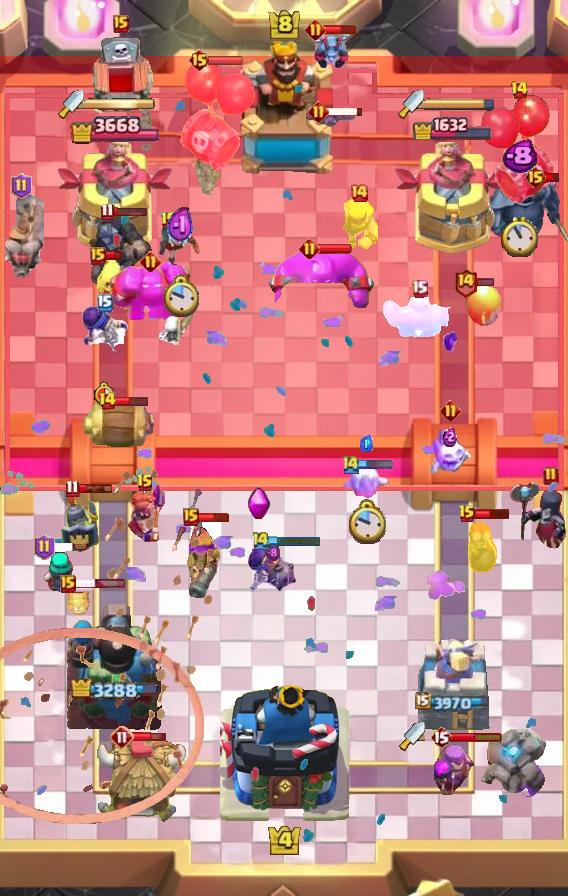bandit: (156, 220, 204, 276)
bar: (450, 731, 503, 743), (269, 535, 322, 547), (74, 578, 126, 589), (474, 507, 511, 520), (132, 730, 167, 743), (317, 243, 353, 255), (114, 395, 149, 407), (327, 106, 364, 117), (358, 459, 394, 470), (208, 55, 244, 66), (78, 483, 113, 494), (113, 206, 148, 217), (196, 512, 230, 523), (323, 24, 357, 35), (52, 542, 88, 552), (104, 250, 123, 261), (476, 277, 495, 287), (544, 172, 561, 183)
bar-level: (453, 267, 478, 298), (110, 725, 134, 749), (524, 165, 547, 189), (188, 48, 211, 72), (34, 534, 55, 560), (11, 173, 32, 199), (430, 725, 452, 749), (440, 400, 461, 421), (140, 251, 161, 272), (299, 238, 320, 259), (308, 101, 329, 122), (305, 19, 326, 40), (251, 530, 271, 551), (341, 454, 361, 475), (349, 183, 369, 203), (98, 391, 117, 411), (510, 80, 529, 100), (458, 504, 476, 524), (136, 473, 154, 493), (160, 211, 178, 231), (411, 279, 428, 298), (543, 466, 559, 486), (60, 575, 76, 593), (183, 508, 199, 526), (97, 294, 113, 312), (90, 247, 106, 265), (113, 15, 129, 33), (65, 479, 80, 498), (100, 202, 115, 221)
barbarian-barrel: (82, 401, 158, 451)
barbarian-evolution: (334, 197, 384, 251)
bat: (306, 109, 358, 131)
bomber: (465, 517, 499, 573)
bomber-evolution: (79, 304, 131, 358), (246, 545, 300, 595)
cannoneer-tower: (64, 601, 164, 731)
clock: (347, 499, 386, 546), (162, 274, 199, 319), (501, 216, 538, 257), (94, 381, 117, 406)
dagger-duchess-tower: (394, 142, 512, 256), (55, 142, 173, 256), (416, 637, 490, 731)
dagger-duchess-tower-bar: (424, 97, 496, 111), (84, 97, 156, 111)
dirt: (190, 143, 225, 195), (134, 103, 157, 153)
elixir: (502, 139, 537, 174), (167, 206, 194, 246), (443, 426, 457, 447), (266, 544, 280, 562), (360, 435, 373, 452)
elixir-golem-mid: (382, 293, 456, 345)
evolution-symbol: (245, 487, 270, 521)
golemite: (479, 729, 549, 797)
guard: (61, 490, 103, 554)
heal-spirit: (96, 256, 126, 302)
ice-spirit-evolution: (429, 426, 471, 476), (341, 464, 391, 502)
king-tower: (220, 678, 349, 826), (228, 41, 340, 181)
lava-pup: (64, 586, 92, 618)
minion: (309, 31, 351, 69)
mother-witch: (431, 741, 477, 807)
musketeer: (181, 522, 223, 602)
night-witch: (508, 479, 568, 553)
phoenix-egg: (464, 284, 504, 328)
ram-rider: (0, 194, 44, 280)
rascal-girl: (42, 552, 80, 596)
skeleton: (157, 309, 198, 353)
tower-bar: (70, 113, 159, 148), (412, 114, 494, 140), (71, 679, 158, 702), (415, 692, 492, 712)
valkyrie-evolution: (124, 484, 166, 548)
